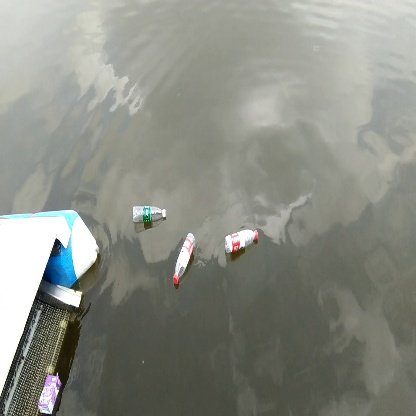bottle: (164, 231, 200, 284), (222, 224, 261, 258), (130, 202, 169, 225)
